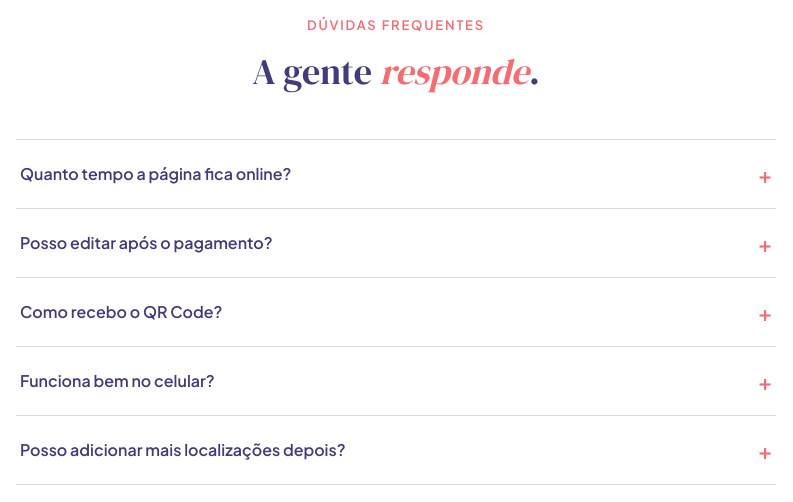
FAQ › should close an item when clicked again
The width and height of the screenshot is (793, 502).
Click the button "Quanto tempo a página fica online? +" at (156, 174), box [16,140,776,208]
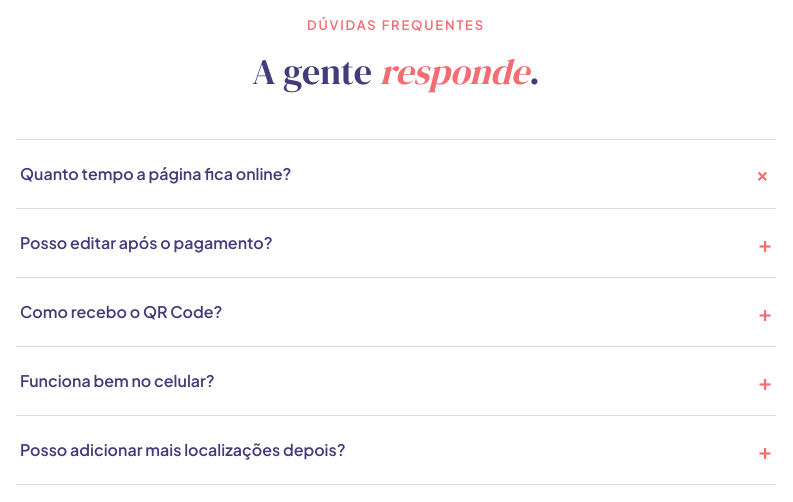
Check: the button "Quanto tempo a página fica online? +" is expanded
Click the button "Quanto tempo a página fica online? +" at (156, 174), box [16,140,776,208]
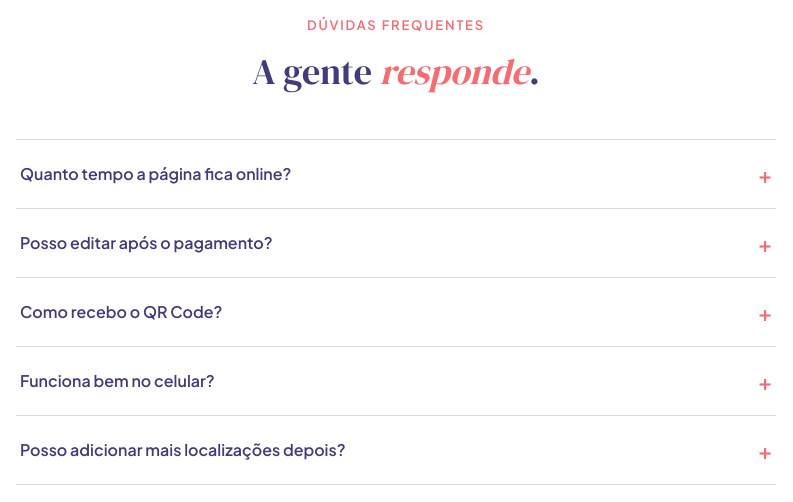
Check: the button "Quanto tempo a página fica online? +" is collapsed, box [16,140,776,208]
